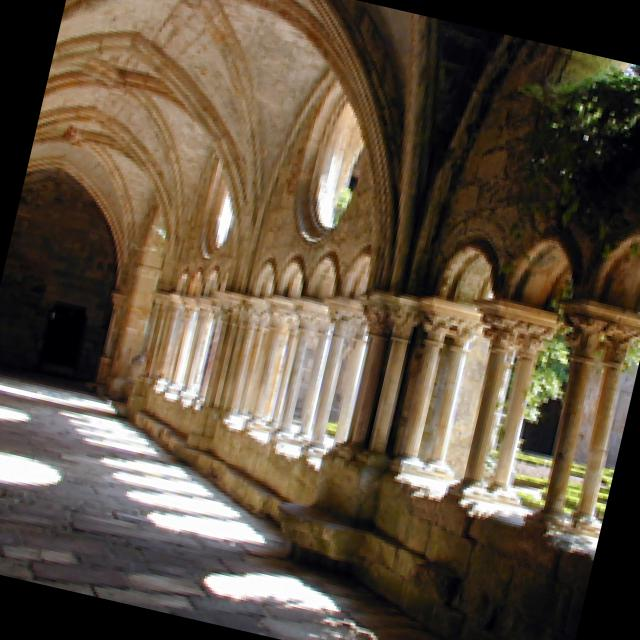2001: (311, 94, 362, 225), (205, 173, 230, 246)
archs: (130, 223, 640, 547)
ceiling beam: (27, 0, 352, 284)
door bars: (35, 299, 84, 372)
floor -X: (0, 361, 444, 640)
wall clock: (90, 0, 640, 640), (0, 163, 115, 378)
